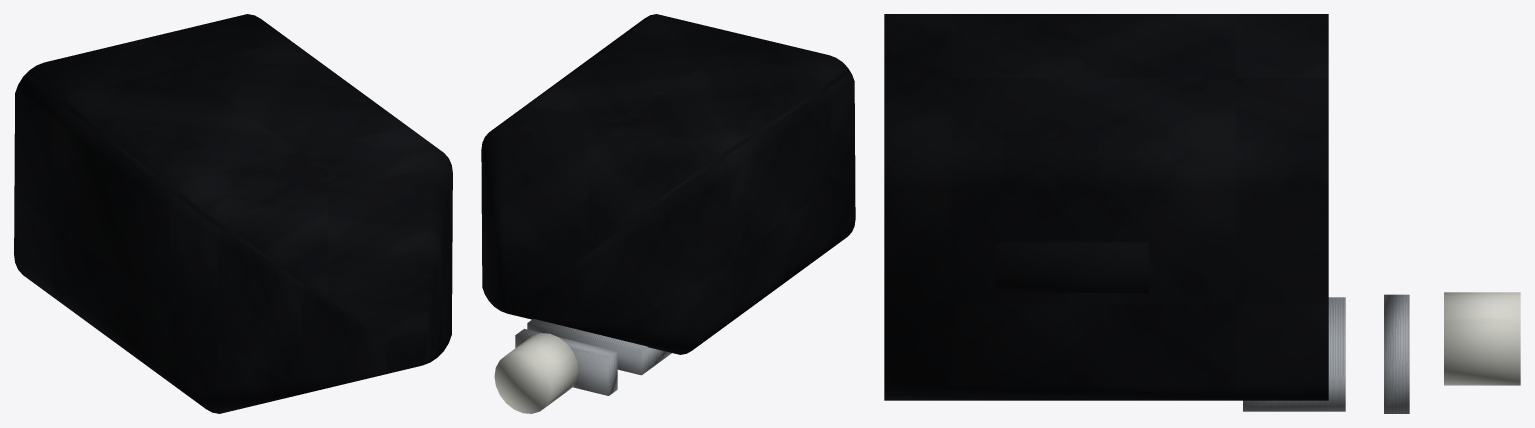
Rendered from COFFEE_MACHINE_001.glb.
3 renders of one model, left to right at view 1: azimuth 30°, elevation 25°; view 2: azimuth 150°, elevation 25°; view 3: azimuth 270°, elevation 25°, orthographic. The views are drawn at different scales.
Visible parts, largest first — view 1: machine_body_000; view 2: machine_body_000, espresso_cup_002, chrome_face_001, tray_003; view 3: machine_body_000, bean_hopper_004, espresso_cup_002, tray_003, chrome_face_001.
Part boxes in pixels (x1=…): machine_body_000: x1=14, y1=14, x2=452, y2=413; machine_body_000: x1=481, y1=14, x2=855, y2=354; espresso_cup_002: x1=494, y1=333, x2=578, y2=413; chrome_face_001: x1=527, y1=318, x2=671, y2=375; tray_003: x1=515, y1=328, x2=617, y2=395; machine_body_000: x1=884, y1=14, x2=1328, y2=400; bean_hopper_004: x1=995, y1=242, x2=1148, y2=292; espresso_cup_002: x1=1444, y1=292, x2=1520, y2=385; tray_003: x1=1384, y1=294, x2=1409, y2=413; chrome_face_001: x1=1243, y1=297, x2=1345, y2=411.
Bounding box in the file's own units: 0.43 × 0.395 × 0.745.
Materials: 3 (3 with a texture image).
